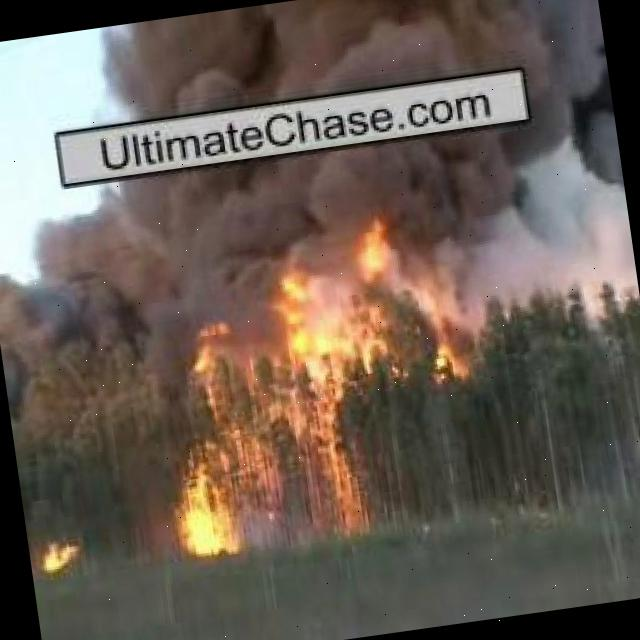fire: (142, 262, 368, 560), (351, 187, 488, 388), (34, 534, 84, 574)
